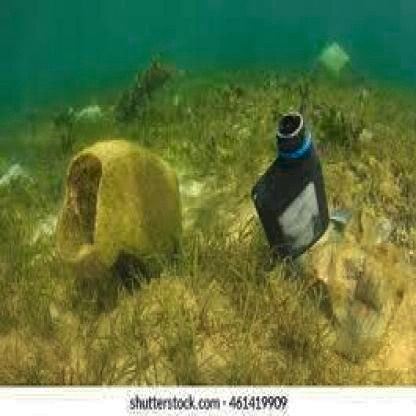plastic: (53, 140, 193, 278), (239, 99, 336, 250)
